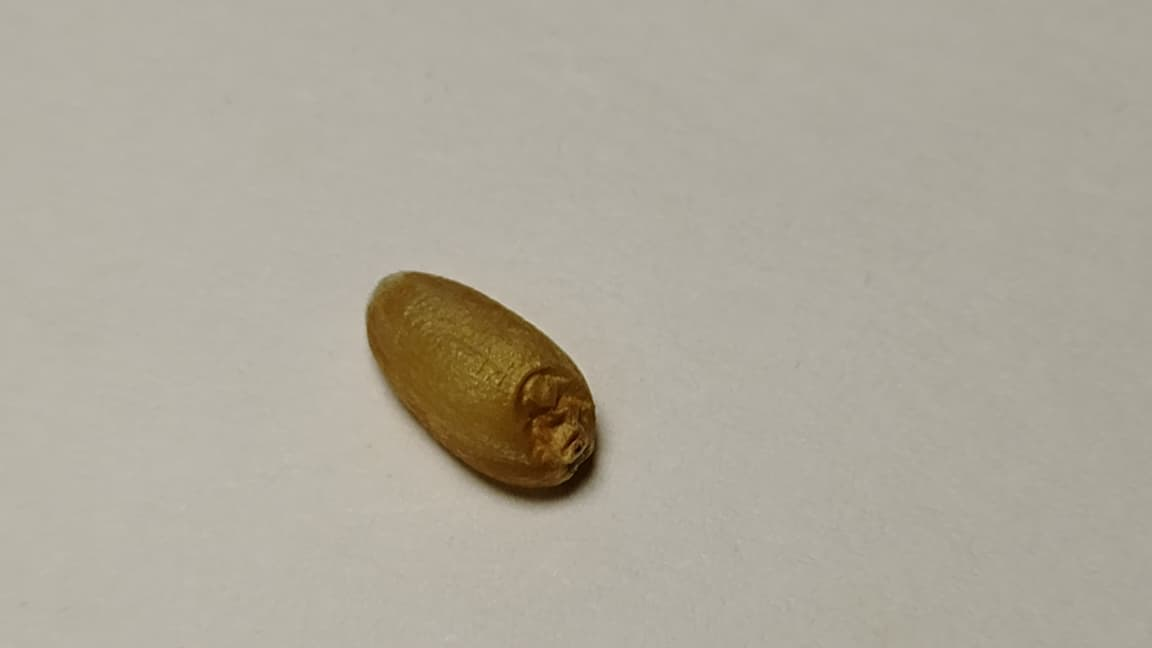healthy: (367, 271, 596, 487)
